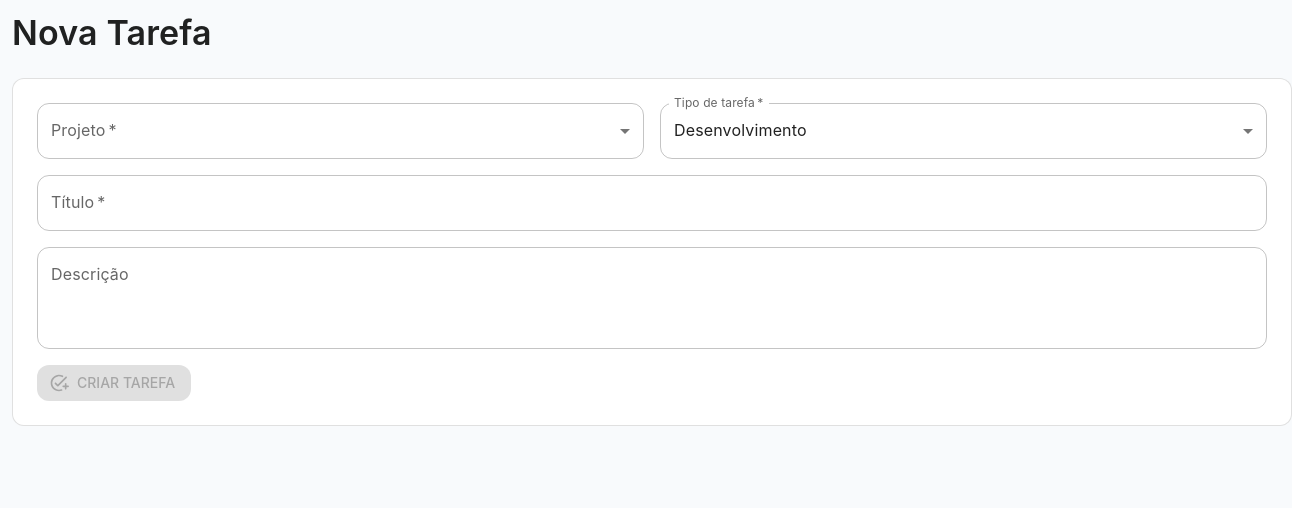
Test case: NovaTarefaScreen › envia POST para /api/tarefas ao criar e exibe sucesso
Step 1. Click the 1st dropdown → (340,131), box [37,103,644,159]
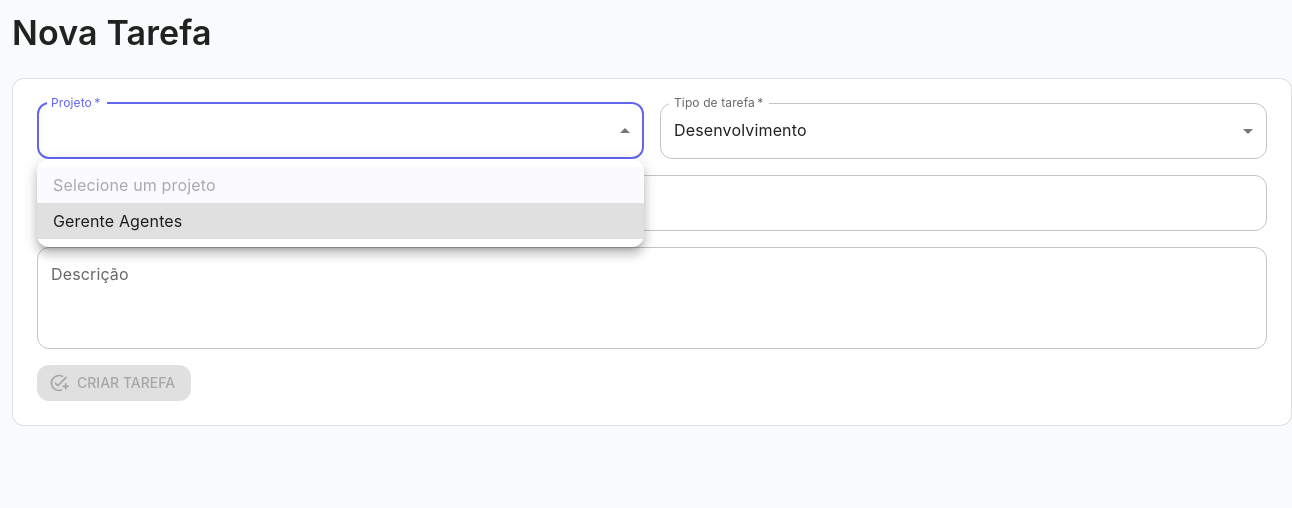
Step 2. Click the option "Gerente Agentes" → (118,221), box [37,203,644,239]
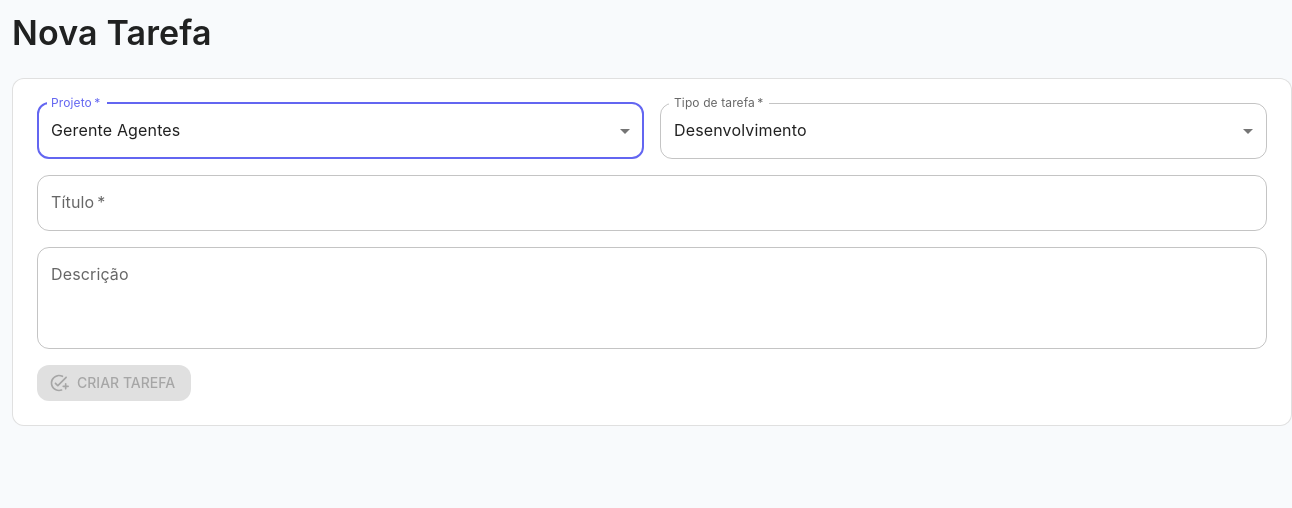
Step 3. Type "Minha tarefa" into the field with test id "input-titulo" → (652,203), box [37,175,1267,231]
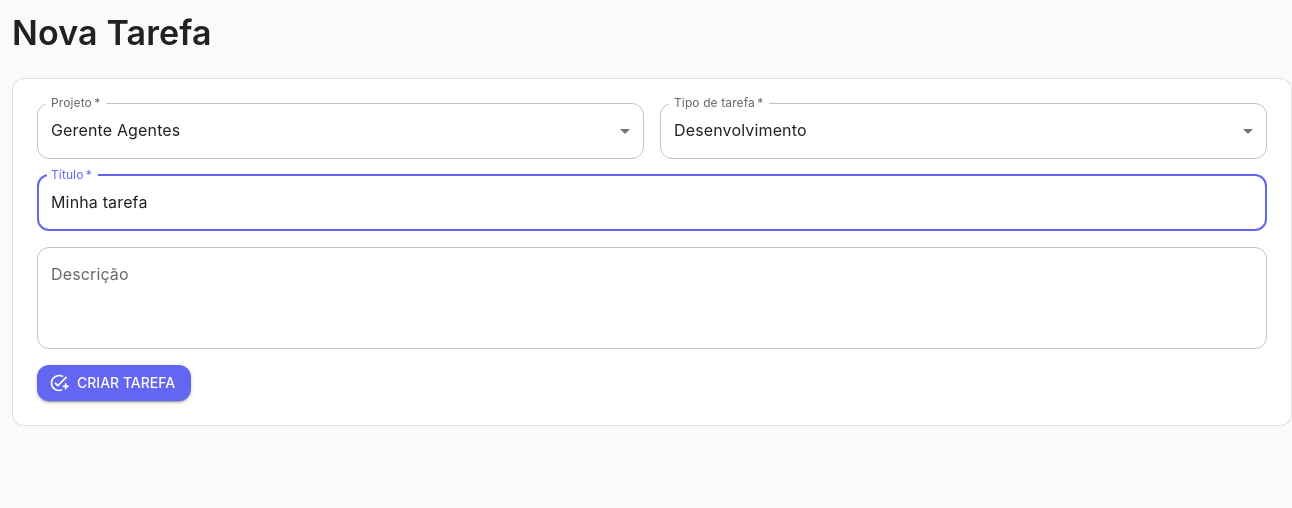
Step 4. Type "Descricao testando aqui" into the text box with test id "input-descricao" → (652,298), box [51,264,1253,332]
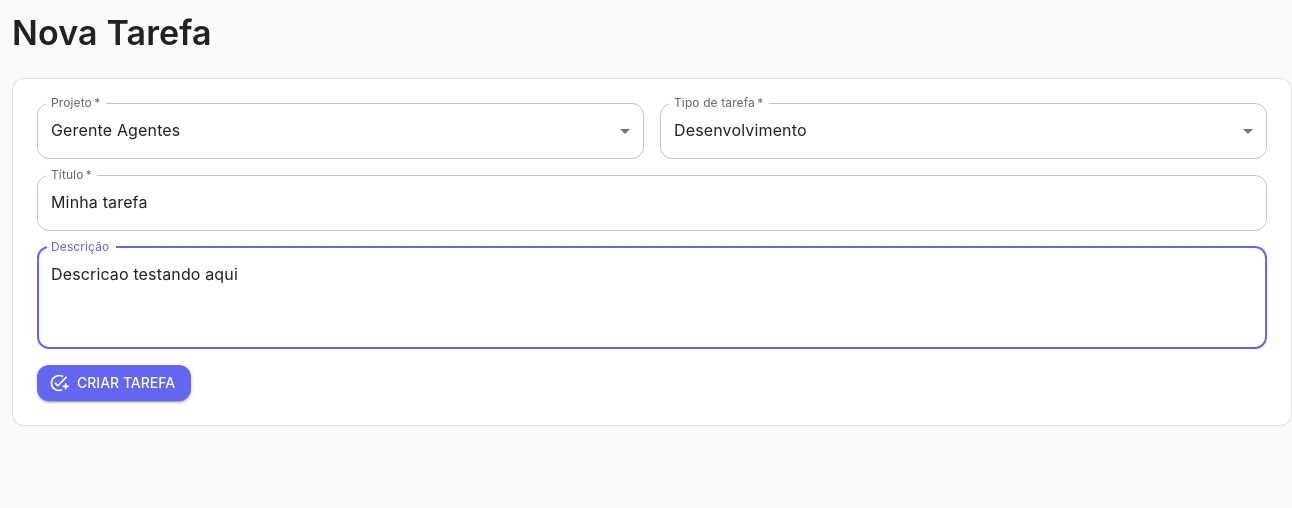
Step 5. Click the button with test id "btn-enviar" → (114,383), box [37,365,191,402]
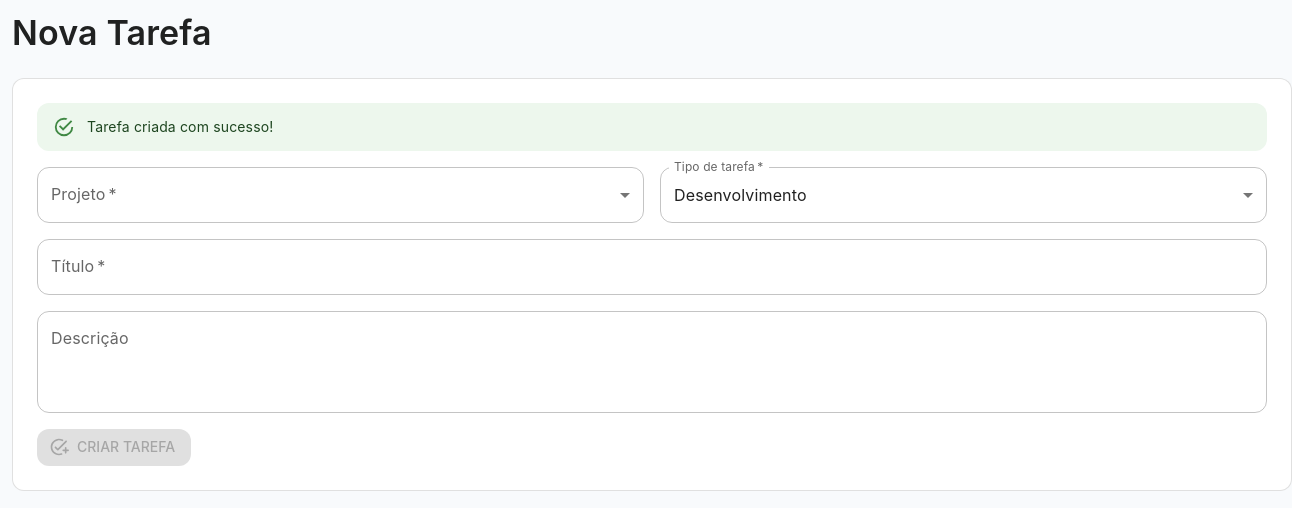
Now the message "Tarefa criada com sucesso!" is shown, box [37,103,1267,151]
